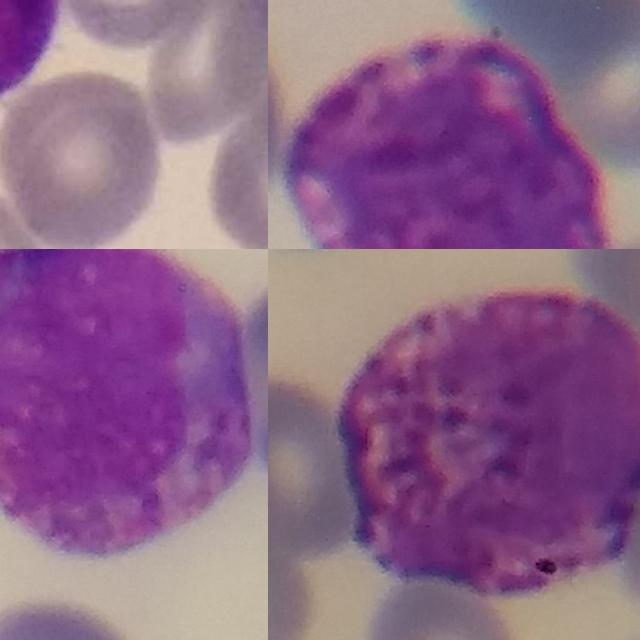Basophil: (330, 289, 640, 604), (0, 249, 257, 559), (279, 38, 610, 249)
